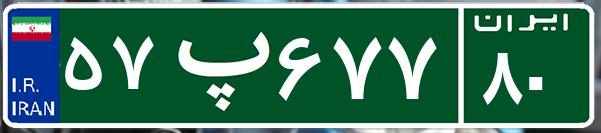0: (525, 38, 570, 115)
5: (57, 26, 110, 107)
6: (273, 28, 330, 110)
7: (385, 28, 445, 110), (330, 28, 385, 110), (110, 28, 158, 105)
8: (475, 38, 525, 113)
پ: (158, 15, 273, 115)
